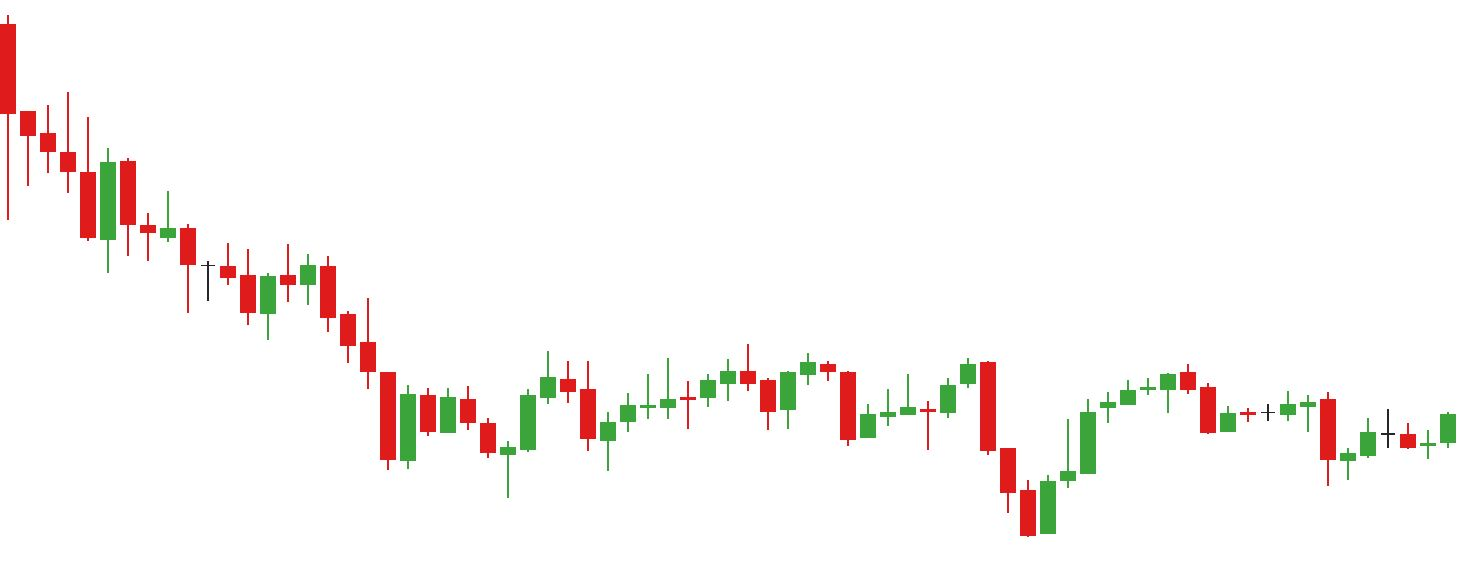buy: (498, 393, 1060, 540)
